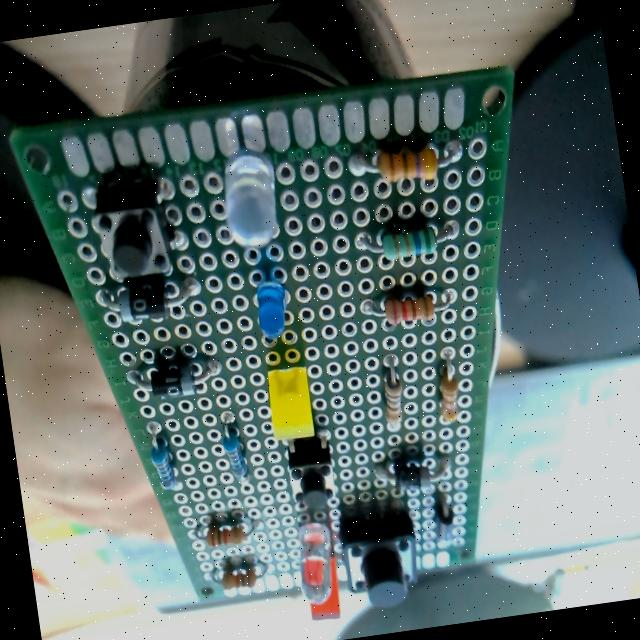diode: (105, 275, 202, 329), (125, 353, 224, 402), (376, 448, 456, 499)
led: (217, 150, 285, 252), (290, 518, 342, 608), (263, 363, 317, 442), (249, 265, 295, 343), (302, 558, 343, 622)
resistor: (353, 136, 458, 190), (358, 219, 456, 265), (364, 286, 456, 333), (144, 420, 180, 494), (379, 364, 408, 430), (434, 366, 463, 425), (220, 428, 250, 483), (205, 519, 248, 550), (220, 564, 258, 593)
switch: (89, 180, 178, 289), (336, 506, 424, 608), (284, 432, 338, 510)
